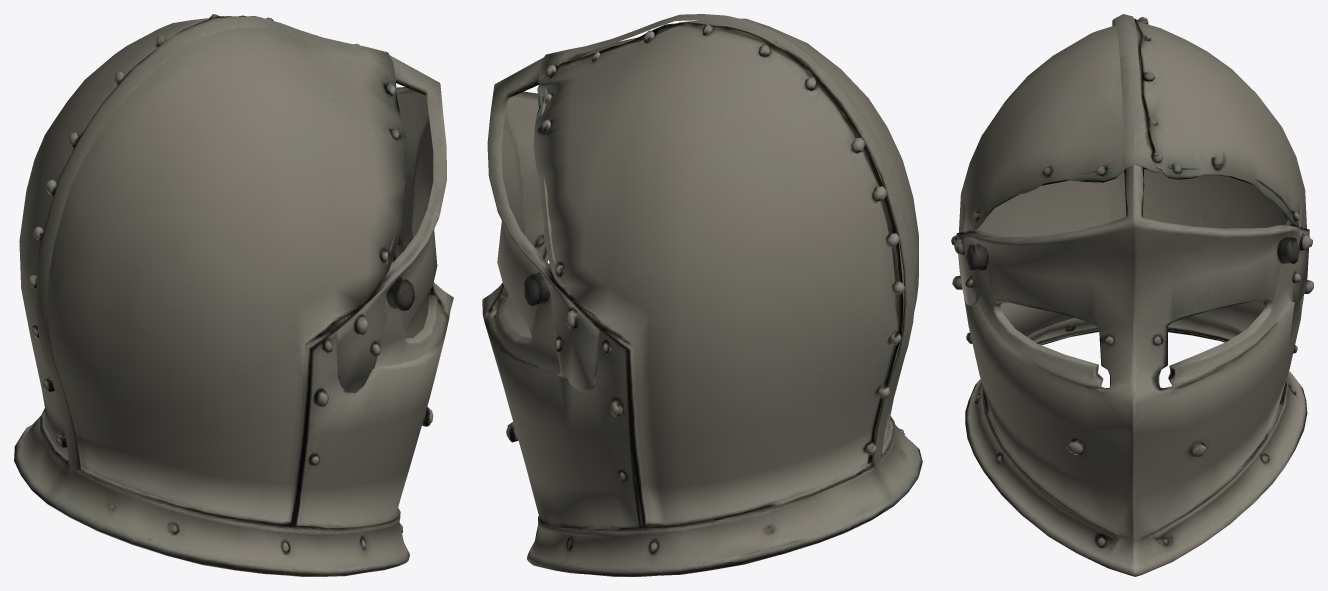
File: full_helm.glb
3 views of the same model, side by side, from view 1: azimuth 30°, elevation 25°; view 2: azimuth 150°, elevation 25°; view 3: azimuth 270°, elevation 25° (orthographic). The views are drawn at different scales.
Visible parts, largest first — view 1: tripo_node_af3596da-f39c-445c-85cb-942779934b46; view 2: tripo_node_af3596da-f39c-445c-85cb-942779934b46; view 3: tripo_node_af3596da-f39c-445c-85cb-942779934b46.
Boxes of the visible parts, box(x1,y1,x2,y2) form: tripo_node_af3596da-f39c-445c-85cb-942779934b46: box(14, 14, 453, 576); tripo_node_af3596da-f39c-445c-85cb-942779934b46: box(482, 14, 922, 576); tripo_node_af3596da-f39c-445c-85cb-942779934b46: box(951, 14, 1313, 576).
Size of the model in its own units: 0.5331 by 0.6863 by 0.4761.
Materials: 1 (1 with a texture image).
